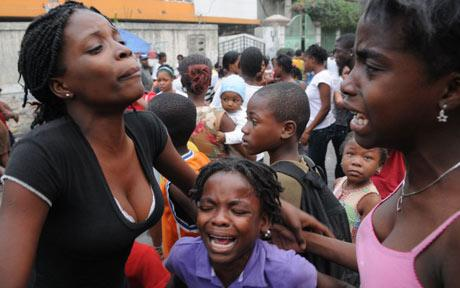person: (2, 2, 177, 285), (338, 1, 458, 286), (187, 166, 294, 282), (233, 84, 307, 161), (301, 46, 341, 171), (177, 53, 217, 128), (340, 136, 386, 186), (219, 74, 249, 116), (237, 48, 263, 83), (218, 46, 244, 74), (271, 56, 295, 80), (156, 65, 176, 93)
